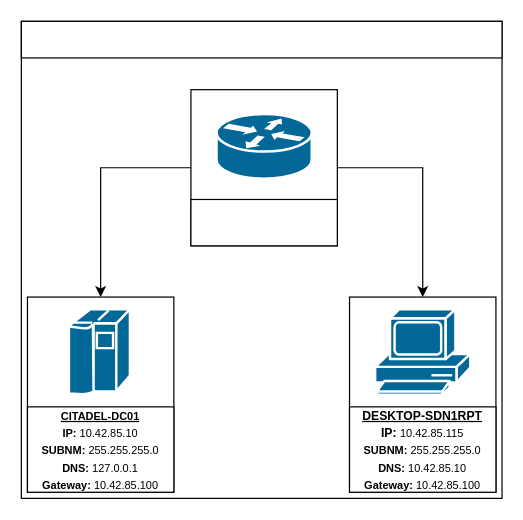
Some shapes in this 523 by 520 pixel diagram are drawn without their labels. The shapes that lost their labels are listed below. From the top down, each one's centre as x and y in pixels, then its label:
[261,39]: Network : 10.42.85.0/24
[263,222]: Client Router/Subnet IP : 10.42.85.100
